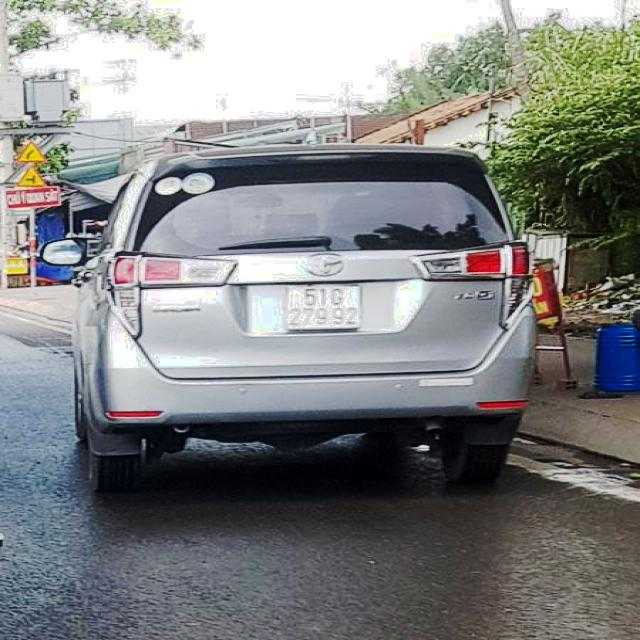license_plate: (284, 283, 365, 332)
